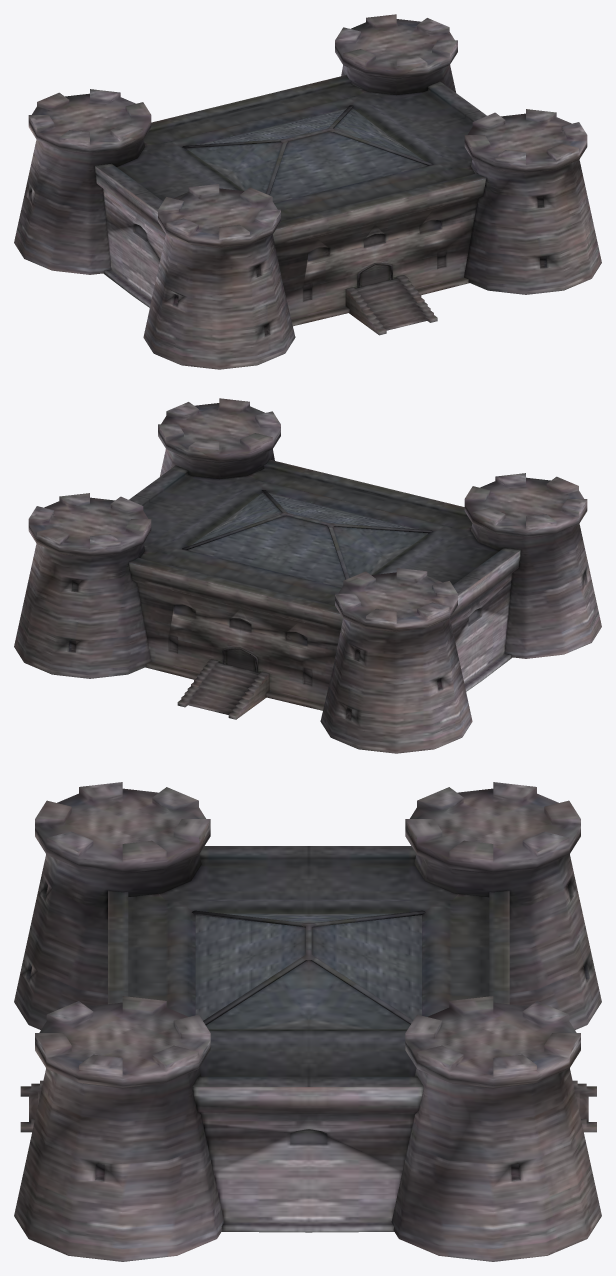
The model's file is Fortress.glb.
The picture shows the model from 3 angles, top to bottom: view 1: azimuth 30°, elevation 25°; view 2: azimuth 150°, elevation 25°; view 3: azimuth 270°, elevation 25°; orthographic projection. The views are drawn at different scales.
Parts seen in each view (by area): view 1: 2; view 2: 2; view 3: 2.
Boxes of the visible parts, x1,y1,x2,y2 form: 2: (14,14,601,369); 2: (14,398,601,753); 2: (14,782,601,1261).
Bounding box in the file's own units: 9.43 × 2.67 × 7.66.
Materials: 1 (1 with a texture image).
